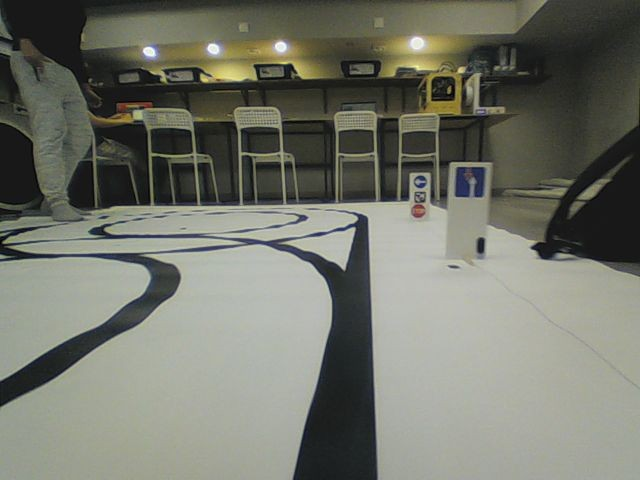Stop: (411, 204, 426, 218)
priority_movement: (454, 166, 486, 199)
